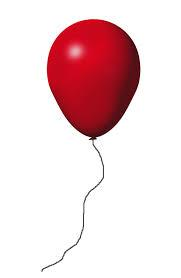red: (46, 18, 142, 138)
